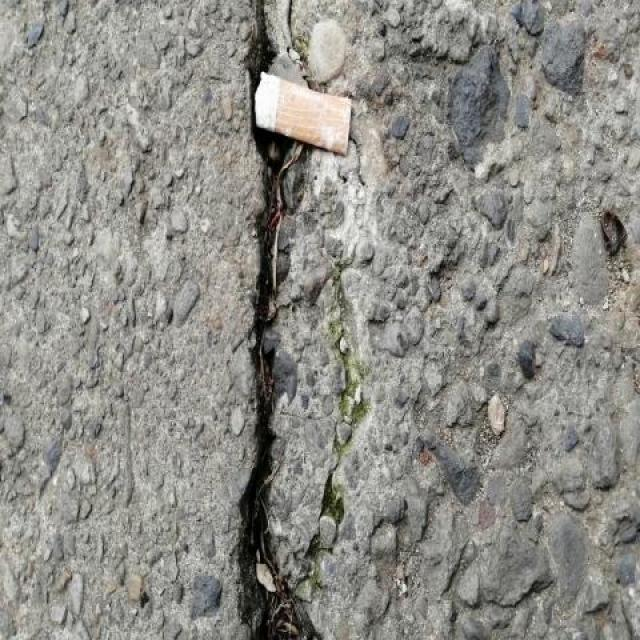non-organic waste: (248, 66, 356, 161)
